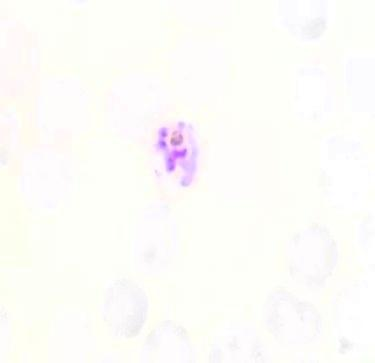Infected: (153, 118, 204, 194)
